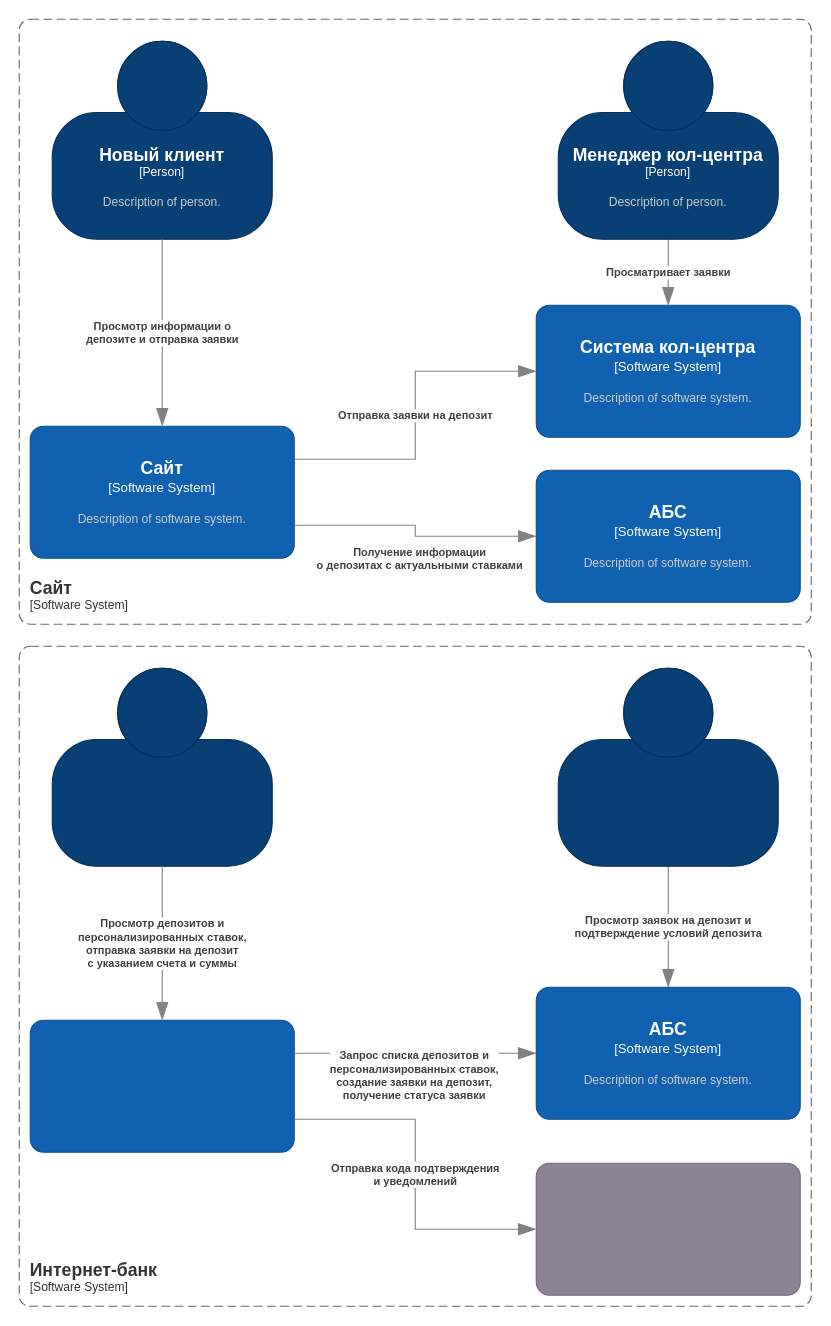
Image size: 831x1326. Some labels were removed from this diagram. The centre of each missing label's shape, as x and y in pixels:
"Интернет-банк [Software System] Description of software system." belongs at pixel 161 1085.
"Клиент [Person] Description of person." belongs at pixel 161 766.
"Менеджер бэк-офиса [Person] Description of person." belongs at pixel 667 766.
"СМС-шлюз [Software System] Description of external software system." belongs at pixel 667 1228.
